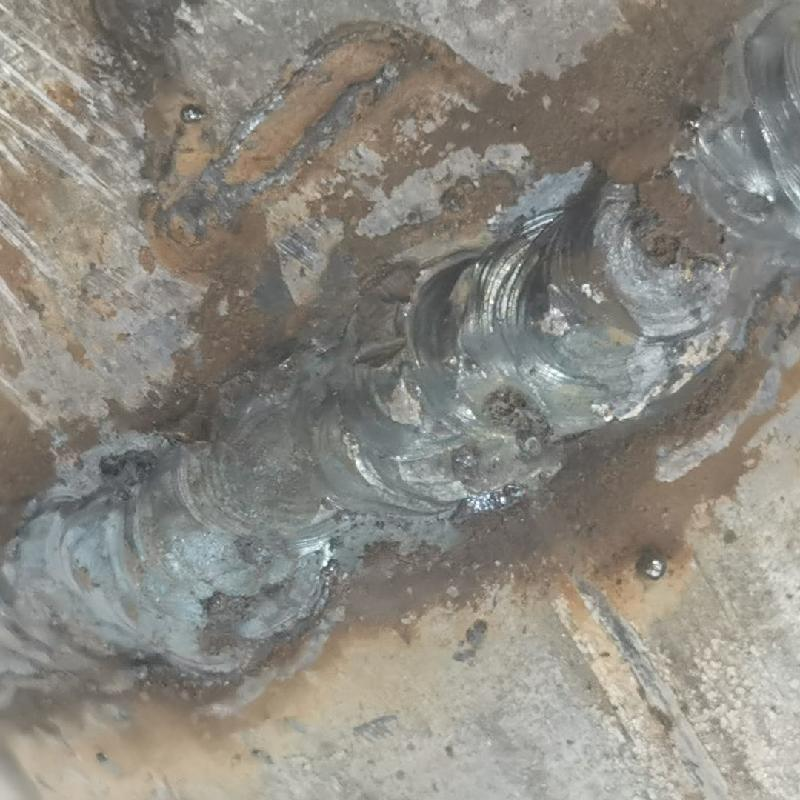good: (5, 2, 798, 708)
